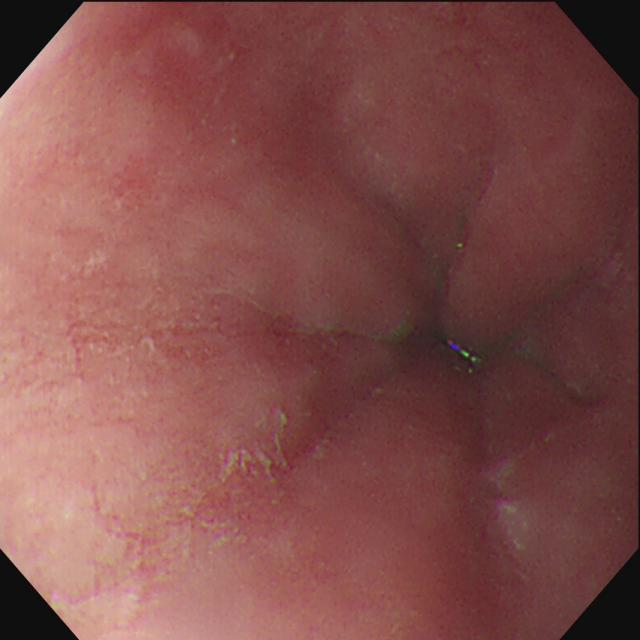J: (220, 405, 291, 483)
U: (448, 342, 479, 362)
